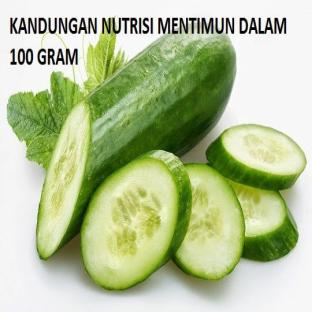Cucumber: (37, 35, 235, 258), (81, 151, 191, 289), (173, 164, 244, 280), (207, 125, 306, 190), (229, 181, 298, 261)
